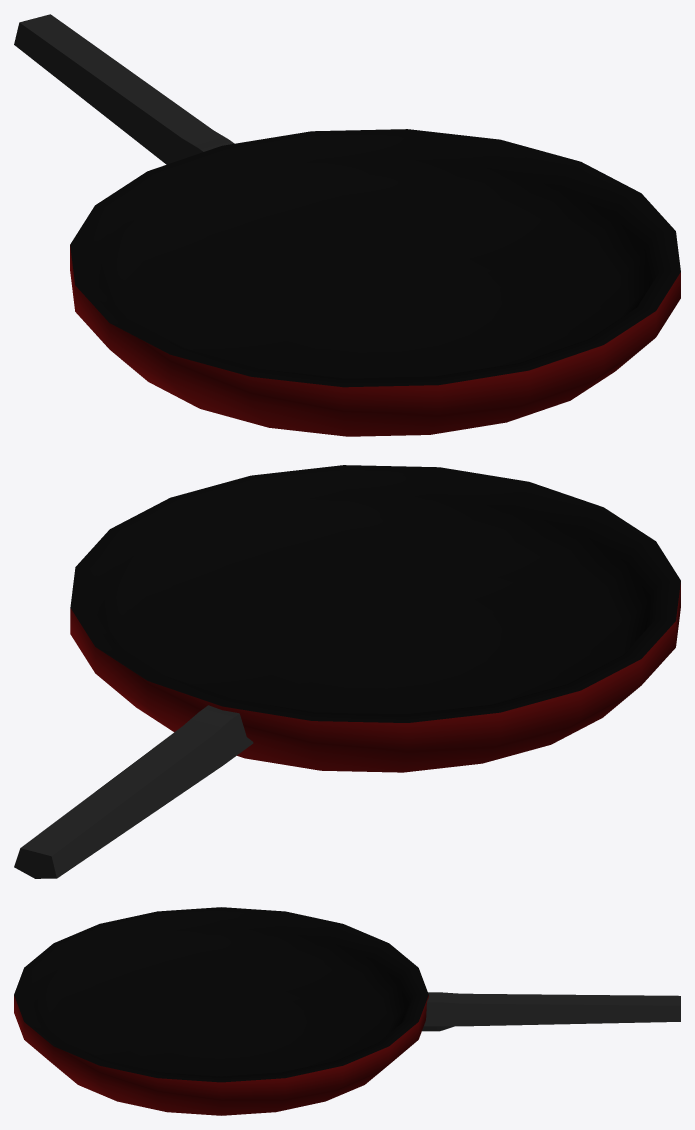
File: fryingPan_LQ.fbx
3 views of the same model, one above another, from view 1: azimuth 30°, elevation 25°; view 2: azimuth 150°, elevation 25°; view 3: azimuth 270°, elevation 25° (orthographic). The views are drawn at different scales.
Parts seen in each view (by area): view 1: pCylinder1, pCylinder2; view 2: pCylinder1, pCylinder2; view 3: pCylinder1, pCylinder2.
Part boxes in pixels (x1,y1,x2,y2): pCylinder1: (70, 129, 680, 436); pCylinder2: (14, 14, 234, 164); pCylinder1: (70, 465, 680, 772); pCylinder2: (14, 705, 253, 878); pCylinder1: (14, 907, 428, 1115); pCylinder2: (422, 992, 680, 1031).
Bounding box in the file's own units: 2 × 0.2796 × 3.22.
